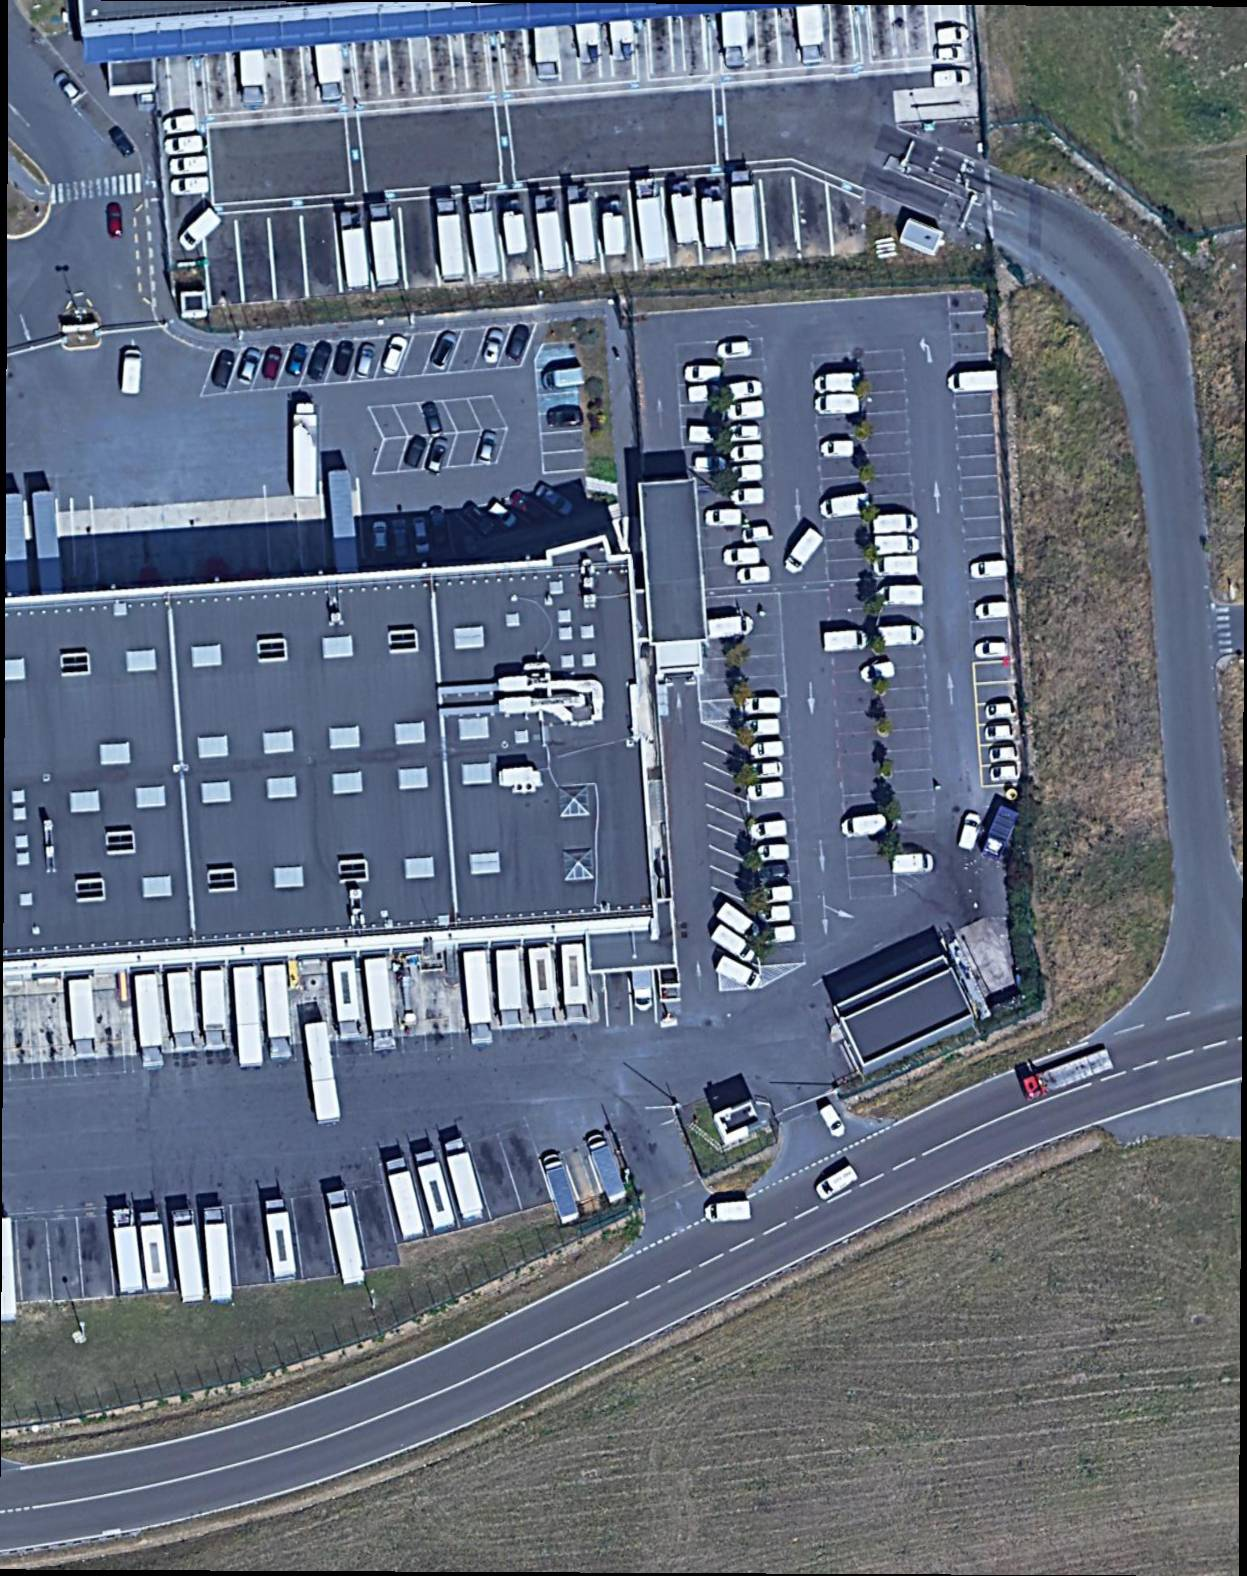large vehicle: (1021, 1048, 1115, 1103), (324, 1188, 368, 1288), (441, 1133, 487, 1224), (303, 1022, 341, 1127), (382, 1155, 427, 1242), (413, 1147, 457, 1233), (583, 1132, 631, 1204), (171, 1208, 206, 1305), (362, 957, 396, 1053), (466, 192, 501, 280), (538, 1153, 581, 1225), (263, 1197, 299, 1283), (234, 966, 262, 1071), (634, 177, 668, 265), (111, 1206, 145, 1295), (434, 194, 467, 281), (205, 1206, 234, 1304), (136, 973, 165, 1071), (263, 965, 293, 1062), (533, 191, 568, 272), (463, 950, 492, 1046), (368, 201, 400, 288), (728, 168, 760, 253), (138, 1210, 171, 1291), (331, 958, 363, 1041), (339, 206, 370, 290), (292, 403, 318, 498), (565, 185, 597, 264), (528, 945, 559, 1026), (67, 979, 97, 1057), (561, 942, 590, 1023), (496, 948, 524, 1028), (200, 970, 226, 1052), (168, 972, 196, 1050), (670, 177, 701, 247), (700, 180, 729, 249), (710, 924, 758, 965), (716, 902, 764, 942), (315, 43, 344, 104), (796, 5, 825, 64), (599, 197, 627, 258), (715, 954, 761, 991), (501, 198, 529, 258), (533, 26, 560, 82), (240, 49, 265, 107), (723, 12, 748, 67)
small vehicle: (176, 206, 223, 255), (780, 528, 825, 577), (813, 1165, 861, 1202), (506, 489, 553, 526), (819, 492, 871, 522), (533, 482, 576, 518), (946, 370, 999, 395), (460, 500, 496, 536), (428, 330, 459, 371), (381, 335, 411, 377), (703, 1200, 753, 1224), (955, 811, 984, 853), (817, 1103, 849, 1140), (842, 814, 888, 839), (874, 533, 921, 558), (874, 585, 923, 608), (874, 624, 923, 647), (210, 348, 237, 390), (237, 345, 263, 388), (306, 342, 334, 381), (541, 367, 584, 393), (480, 327, 506, 366), (504, 324, 531, 362), (824, 629, 868, 652), (709, 617, 753, 640), (120, 349, 142, 397), (813, 374, 861, 395), (872, 556, 920, 578), (487, 500, 521, 531), (425, 437, 450, 476), (52, 72, 83, 104), (107, 125, 137, 159), (813, 394, 861, 414), (284, 342, 311, 377), (874, 513, 920, 533), (725, 400, 766, 423), (726, 379, 765, 403), (746, 780, 785, 803), (260, 345, 284, 382), (333, 340, 357, 377), (168, 155, 208, 177), (353, 343, 377, 379), (428, 507, 449, 549), (168, 177, 210, 197), (632, 971, 654, 1011), (859, 661, 897, 684), (891, 853, 932, 874), (411, 516, 432, 554), (969, 560, 1009, 581), (749, 820, 789, 840), (404, 434, 428, 467), (422, 400, 444, 437), (390, 519, 411, 558), (165, 136, 205, 155), (723, 548, 760, 568), (762, 925, 797, 947), (932, 69, 971, 88), (477, 430, 498, 466), (547, 408, 583, 429), (975, 601, 1010, 622), (684, 365, 721, 384), (705, 508, 742, 527), (743, 697, 780, 716), (756, 843, 790, 863), (730, 443, 765, 463), (758, 885, 794, 904), (984, 702, 1019, 721), (729, 487, 765, 507), (735, 565, 771, 585), (749, 741, 785, 760), (937, 26, 971, 46), (162, 115, 196, 136), (975, 640, 1008, 660), (730, 463, 764, 484), (741, 524, 774, 545), (728, 423, 762, 443), (755, 863, 790, 881), (718, 342, 753, 359), (744, 719, 780, 737), (821, 440, 854, 459), (370, 521, 389, 553), (987, 745, 1019, 764), (985, 724, 1017, 743), (932, 45, 966, 63), (749, 761, 784, 778), (758, 906, 790, 924), (990, 764, 1021, 782), (107, 202, 122, 237)
